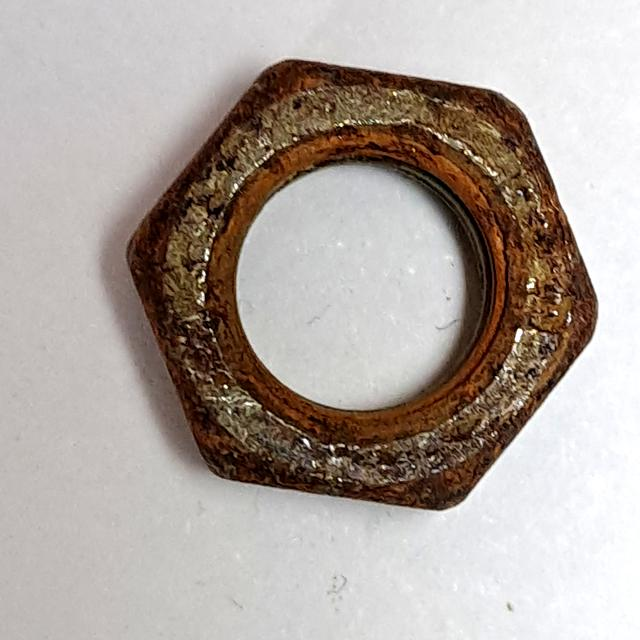Rust: (115, 49, 611, 523)
